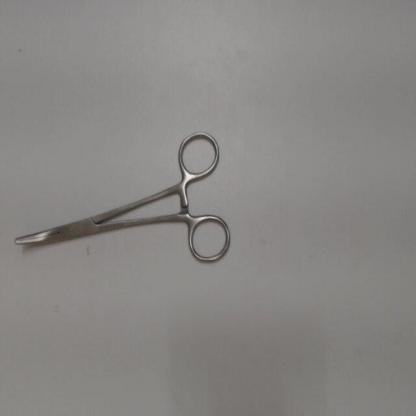Crile Artery Forceps: (8, 123, 234, 270)
